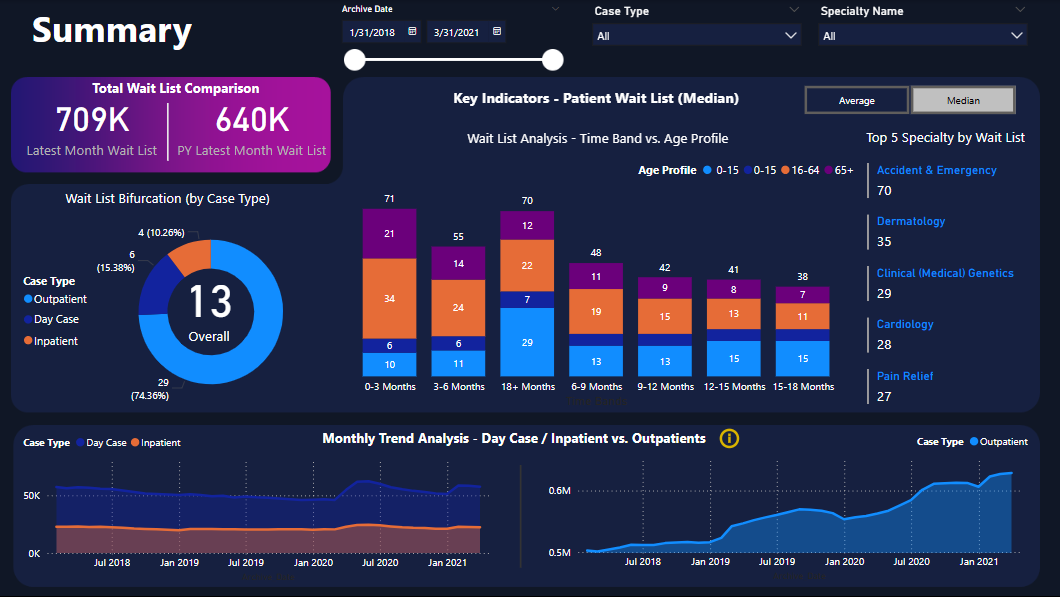

The dashboard page shown, as its layout file describes it:
{"tool":"powerbi","page":{"name":"Summary","canvas":[1280,720],"ordinal":0},"visuals":[{"type":"columnChart","fields":{"Category":["All_Data.Time_Bands"],"Y":["All_Data.Avg/Med Wait List"],"Series":["All_Data.Age_Profile"]},"box":[399.5,184.3,640,312.3],"z":0},{"type":"card","fields":{"Values":["All_Data.Latest Month wait List"]},"box":[16,91.6,192,116.4],"z":1000},{"type":"donutChart","fields":{"Category":["All_Data.Case_Type"],"Y":["All_Data.Avg/Med Wait List"]},"box":[24.3,238,375.9,274.5],"z":2000},{"type":"card","fields":{"Values":["All_Data.PY Latest Month Wait List"]},"box":[208.7,91.8,192,116.9],"z":3000},{"type":"card","fields":{"Values":["All_Data.NoDataLeft"]},"box":[160,592,256,32],"z":4000},{"type":"lineChart","fields":{"Y":["Sum(All_Data.Total)"],"Category":["All_Data.Archive_Date"],"Series":["All_Data.Case_Type"]},"box":[24.3,512.5,584.1,192],"z":5000},{"type":"card","fields":{"Values":["All_Data.NoDataRight"]},"box":[816,592,256,32],"z":6000},{"type":"lineChart","fields":{"Y":["Sum(All_Data.Total)"],"Category":["All_Data.Archive_Date"],"Series":["All_Data.Case_Type"]},"box":[656,512,592,192],"z":7000},{"type":"slicer","fields":{"Values":["All_Data.Archive_Date"]},"box":[400,0,288,96],"z":8000},{"type":"slicer","fields":{"Values":["All_Data.Case_Type"]},"box":[704,0,272,80],"z":9000},{"type":"slicer","fields":{"Values":["All_Data.Specialty_Name"]},"box":[976,0,272,80],"z":10000},{"type":"textbox","box":[0,0,272,80],"z":11000},{"type":"multiRowCard","fields":{"Values":["All_Data.Specialty_Name","All_Data.Avg/Med Wait List"]},"box":[1040.7,192,207.3,320],"z":12000},{"type":"card","fields":{"Values":["All_Data.Avg/Med Wait List"]},"box":[213.6,313.7,79.8,104.1],"z":13000},{"type":"slicer","fields":{"Values":["Calculation Method.Calc Method"]},"box":[944,96,304,48],"z":14000},{"type":"card","fields":{"Values":["All_Data.Dynamic Title"]},"box":[512,87.7,414.6,64],"z":15000},{"type":"textbox","box":[106.8,90.6,223.1,44.6],"z":16000},{"type":"textbox","box":[384,512,528,48],"z":17000},{"type":"textbox","box":[558.4,150.5,362.9,47.8],"z":18000},{"type":"textbox","box":[1039.3,148.9,205.9,50.1],"z":19000},{"type":"actionButton","box":[863.6,512,63.3,32.4],"z":20000},{"type":"textbox","box":[74.3,222.9,267.1,31.4],"z":21000},{"type":"shape","box":[584.7,560,85.8,123.6],"z":22000},{"type":"shape","box":[160,123.8,86.3,69.6],"z":23000}]}

Visuals, with their boxes in screenshot pixels (x1, y1, x2, y2), scaled from the page's 1280x720 canvas onto the 1060x597 screenshot:
columnChart - All_Data.Time_Bands x All_Data.Avg/Med Wait List: [x1=331, y1=153, x2=861, y2=412]
card - All_Data.Latest Month wait List: [x1=13, y1=76, x2=172, y2=172]
donutChart - All_Data.Case_Type x All_Data.Avg/Med Wait List: [x1=20, y1=197, x2=331, y2=425]
card - All_Data.PY Latest Month Wait List: [x1=173, y1=76, x2=332, y2=173]
card - All_Data.NoDataLeft: [x1=132, y1=491, x2=344, y2=517]
lineChart - Sum(All_Data.Total) x All_Data.Archive_Date: [x1=20, y1=425, x2=504, y2=584]
card - All_Data.NoDataRight: [x1=676, y1=491, x2=888, y2=517]
lineChart - Sum(All_Data.Total) x All_Data.Archive_Date: [x1=543, y1=425, x2=1034, y2=584]
slicer - All_Data.Archive_Date: [x1=331, y1=0, x2=570, y2=80]
slicer - All_Data.Case_Type: [x1=583, y1=0, x2=808, y2=66]
slicer - All_Data.Specialty_Name: [x1=808, y1=0, x2=1034, y2=66]
textbox: [x1=0, y1=0, x2=225, y2=66]
multiRowCard - All_Data.Specialty_Name x All_Data.Avg/Med Wait List: [x1=862, y1=159, x2=1034, y2=425]
card - All_Data.Avg/Med Wait List: [x1=177, y1=260, x2=243, y2=346]
slicer - Calculation Method.Calc Method: [x1=782, y1=80, x2=1034, y2=119]
card - All_Data.Dynamic Title: [x1=424, y1=73, x2=767, y2=126]
textbox: [x1=88, y1=75, x2=273, y2=112]
textbox: [x1=318, y1=425, x2=755, y2=464]
textbox: [x1=462, y1=125, x2=763, y2=164]
textbox: [x1=861, y1=123, x2=1031, y2=165]
actionButton: [x1=715, y1=425, x2=768, y2=451]
textbox: [x1=62, y1=185, x2=283, y2=211]
shape: [x1=484, y1=464, x2=555, y2=567]
shape: [x1=132, y1=103, x2=204, y2=160]
